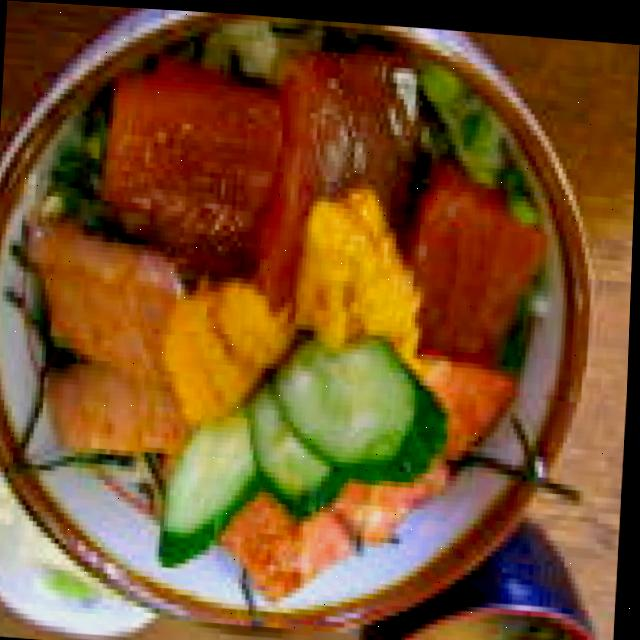刺身生食: (0, 0, 607, 636)
